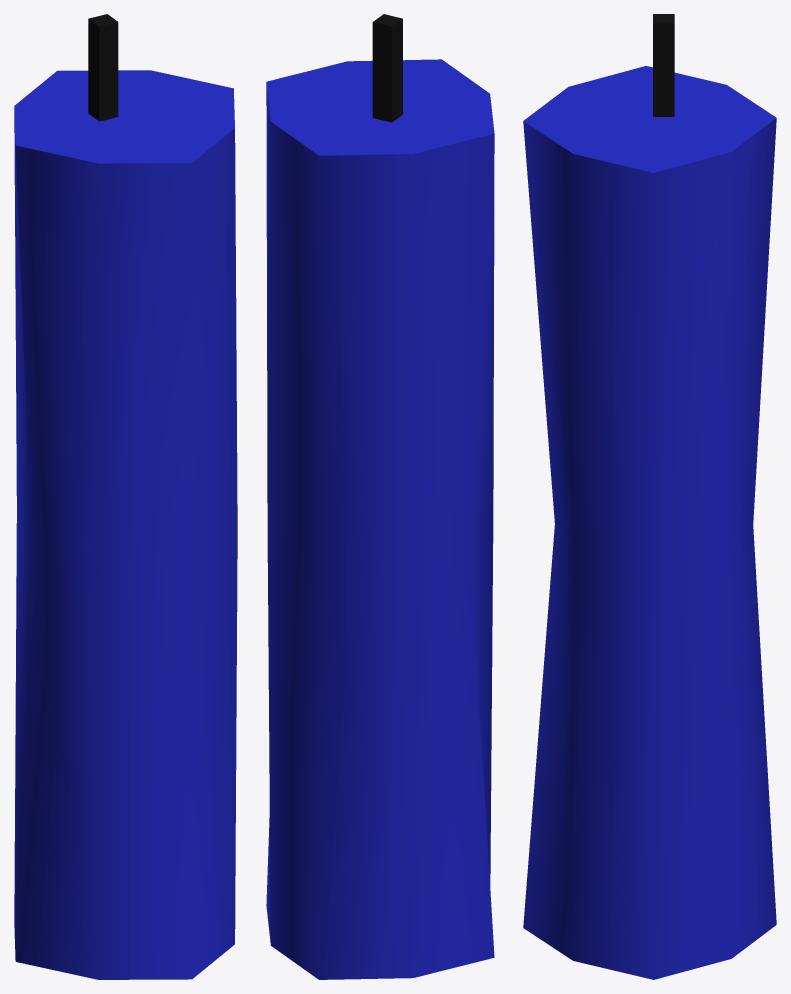
Rendered from candleStickBlue.gltf.
3 renders of one model, left to right at view 1: azimuth 30°, elevation 25°; view 2: azimuth 150°, elevation 25°; view 3: azimuth 270°, elevation 25°, orthographic. The views are drawn at different scales.
Visible parts, largest first — view 1: bougie1, Cube; view 2: bougie1, Cube; view 3: bougie1, Cube.
Boxes of the visible parts, bbox=[...] form: bougie1: bbox=[14, 70, 237, 979]; Cube: bbox=[88, 14, 118, 121]; bougie1: bbox=[266, 59, 494, 979]; Cube: bbox=[372, 14, 402, 122]; bougie1: bbox=[523, 66, 776, 979]; Cube: bbox=[653, 14, 674, 116].
Size of the model in its own units: 0.0234 by 0.0916 by 0.0234.
